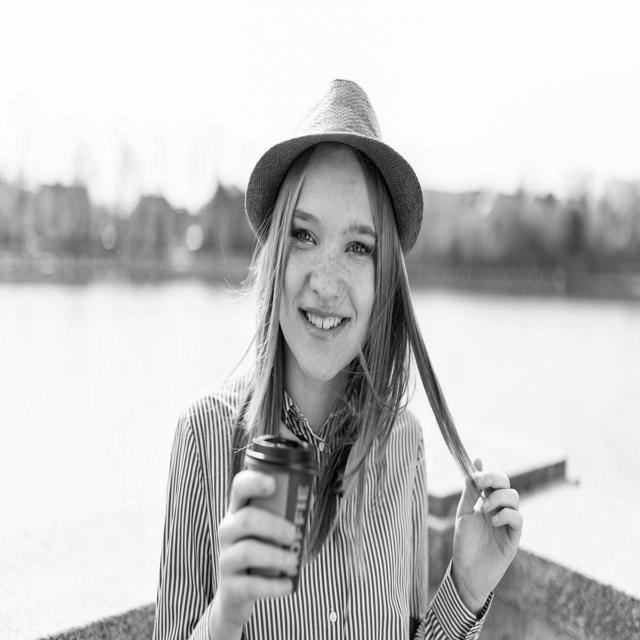Happiness: (274, 152, 380, 386)
